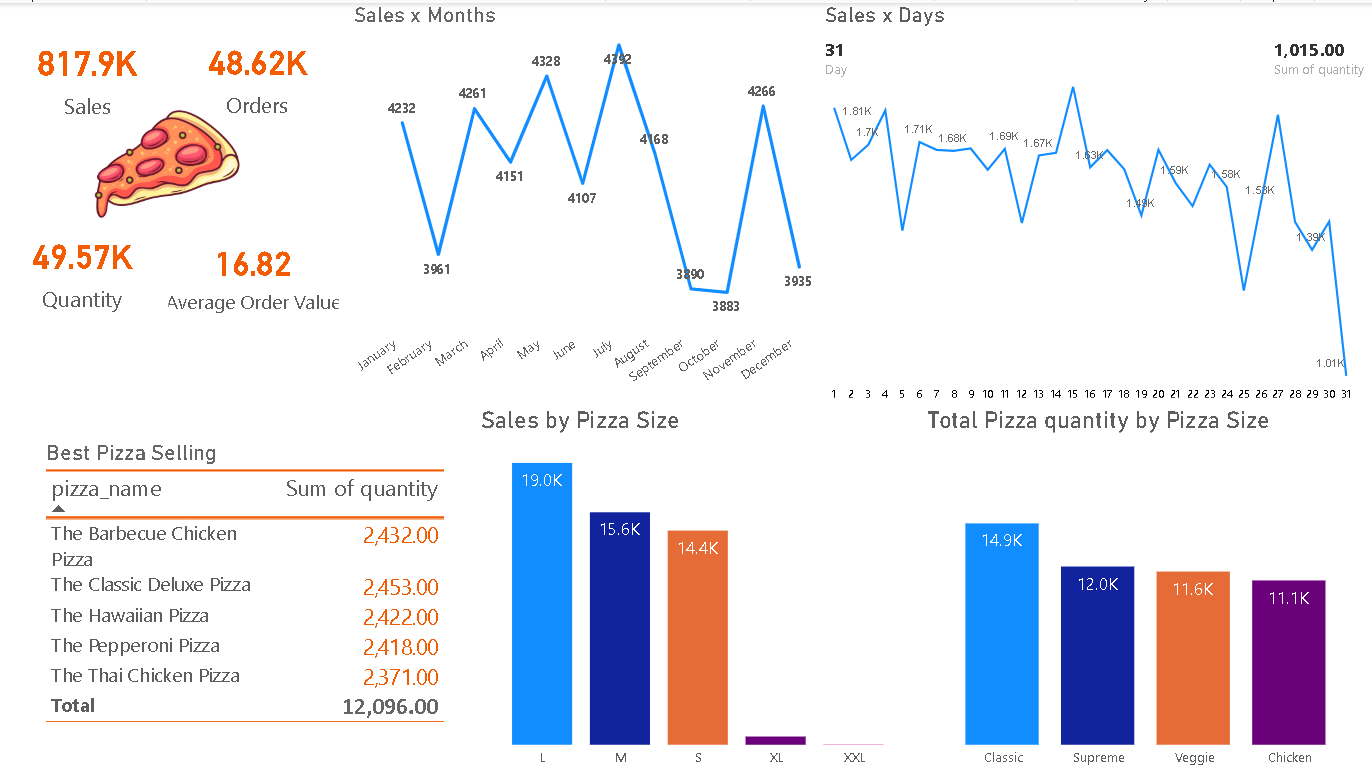

The dashboard page shown, as its layout file describes it:
{"tool":"powerbi","page":{"name":"Page 2","canvas":[1280,720],"ordinal":1},"visuals":[{"type":"powerKPI462CE5C2666F4EC8A8BDD7E5587320A3","title":"Sales x Days","fields":{"Axis":["pizza_sales csv.order_date.Variation.Date Hierarchy.Day"],"Values":["Sum(pizza_sales csv.quantity)"]},"box":[764.9,0,515.1,375.8],"z":0},{"type":"card","fields":{"Values":["Sum(pizza_sales csv.quantity)"]},"box":[0,172.9,158.5,150.1],"z":0,"group":"g1"},{"type":"card","fields":{"Values":["Sum(pizza_sales csv.total_price)"]},"box":[0,0,168.1,135.7],"z":1000,"group":"g1"},{"type":"lineChart","title":"Sales x Months","fields":{"Category":["pizza_sales csv.order_date.Variation.Date Hierarchy.Month"],"Y":["Sum(pizza_sales csv.quantity)"]},"box":[326.6,0,438.3,375.8],"z":1000},{"type":"card","fields":{"Values":["CountNonNull(pizza_sales csv.order_id)"]},"box":[158.5,0,168.1,135.7],"z":2000,"group":"g1"},{"type":"columnChart","title":"Sales by Pizza Size","fields":{"Y":["Sum(pizza_sales csv.quantity)"],"Category":["pizza_sales csv.pizza_size"],"Series":["pizza_sales csv.pizza_size"]},"box":[445.5,375.8,415.5,344.6],"z":2000},{"type":"card","fields":{"Values":["Avg(pizza_sales csv.total_price)"]},"box":[154.9,181.3,168.1,141.7],"z":3000,"group":"g1"},{"type":"columnChart","title":"Total Pizza quantity by Pizza Size","fields":{"Y":["Sum(pizza_sales csv.quantity)"],"Category":["pizza_sales csv.pizza_category"],"Series":["pizza_sales csv.pizza_category"]},"box":[860.9,375.8,419.1,344.6],"z":3000},{"type":"image","box":[78,68.4,160.9,162.1],"z":4000,"group":"g1"},{"type":"pivotTable","title":"Best Pizza Selling","fields":{"Rows":["pizza_sales csv.pizza_name"],"Values":["Sum(pizza_sales csv.quantity)"]},"box":[40.8,405.9,402.3,285.8],"z":4000},{"type":"group","id":"g1","title":"Group 1","box":[0,0,326.6,323],"z":8002}]}

Visuals, with their boxes in screenshot pixels (x1, y1, x2, y2), scaled from the page's 1280x720 canvas onto the 1372x776 screenshot:
"Sales x Days" powerKPI462CE5C2666F4EC8A8BDD7E5587320A3: x1=820 y1=0 x2=1371 y2=405
card - Sum(pizza_sales csv.quantity): x1=0 y1=186 x2=170 y2=348
card - Sum(pizza_sales csv.total_price): x1=0 y1=0 x2=180 y2=146
"Sales x Months" lineChart: x1=350 y1=0 x2=820 y2=405
card - CountNonNull(pizza_sales csv.order_id): x1=170 y1=0 x2=350 y2=146
"Sales by Pizza Size" columnChart: x1=478 y1=405 x2=923 y2=775
card - Avg(pizza_sales csv.total_price): x1=166 y1=195 x2=346 y2=348
"Total Pizza quantity by Pizza Size" columnChart: x1=923 y1=405 x2=1371 y2=775
image: x1=84 y1=74 x2=256 y2=248
"Best Pizza Selling" pivotTable: x1=44 y1=437 x2=475 y2=745
"Group 1" group: x1=0 y1=0 x2=350 y2=348
